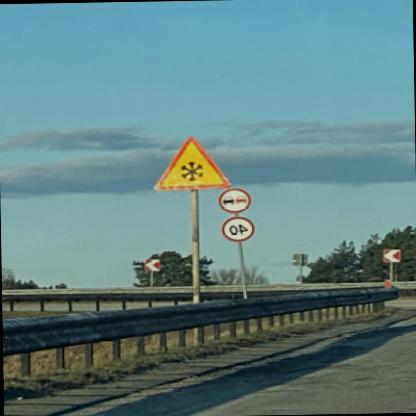speedlimit: (222, 216, 257, 243)
